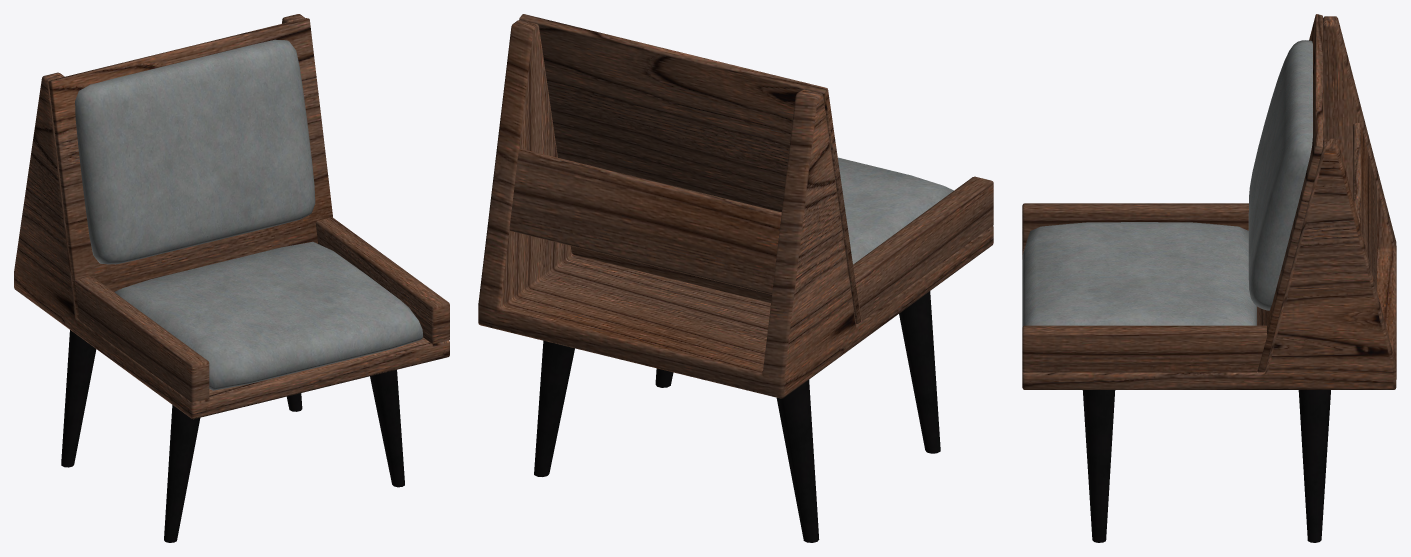
The model's file is Kursi-01.fbx.
3 renders of one model, left to right at view 1: azimuth 30°, elevation 25°; view 2: azimuth 150°, elevation 25°; view 3: azimuth 270°, elevation 25°, orthographic. The views are drawn at different scales.
Parts seen in each view (by area): view 1: Cube.069, Cube.068, Cube.066, Cube.065, Cube.067, Cylinder.010; view 2: Cube.065, Cube.066, Cube.072, Cylinder.010, Cube.067, Cube.068; view 3: Cube.065, Cube.068, Cube.067, Cube.069, Cylinder.010, Cube.066, Cube.072.
Boxes of the visible parts, left/top/right/bottom form: Cube.069: left=75, top=39, right=315, bottom=264; Cube.068: left=114, top=241, right=423, bottom=390; Cube.066: left=48, top=18, right=332, bottom=319; Cube.065: left=14, top=14, right=449, bottom=419; Cube.067: left=75, top=217, right=449, bottom=402; Cylinder.010: left=61, top=330, right=404, bottom=542; Cube.065: left=478, top=20, right=993, bottom=398; Cube.066: left=519, top=14, right=860, bottom=323; Cube.072: left=509, top=149, right=781, bottom=294; Cylinder.010: left=534, top=291, right=940, bottom=542; Cube.067: left=853, top=176, right=993, bottom=321; Cube.068: left=838, top=157, right=953, bottom=264; Cube.065: left=1022, top=16, right=1396, bottom=389; Cube.068: left=1022, top=222, right=1256, bottom=327; Cube.067: left=1022, top=203, right=1267, bottom=372; Cube.069: left=1248, top=40, right=1312, bottom=310; Cylinder.010: left=1082, top=390, right=1330, bottom=542; Cube.066: left=1257, top=14, right=1322, bottom=372; Cube.072: left=1353, top=122, right=1376, bottom=289.
Size of the model in its own units: 89.94 by 128 by 108.
Materials: 1 (1 with a texture image).
